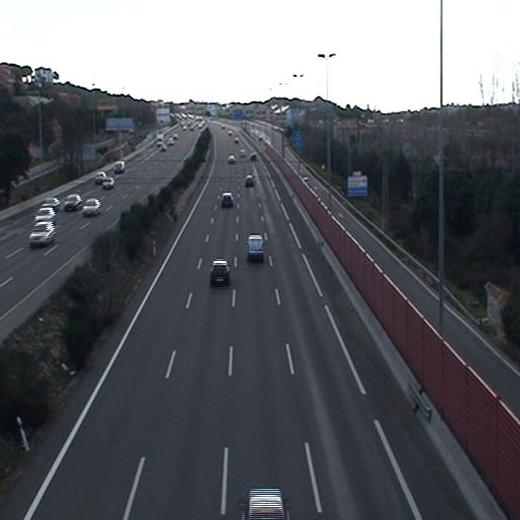car: (210, 261, 229, 287), (219, 193, 234, 209), (244, 176, 255, 189)
van: (247, 235, 263, 259)
